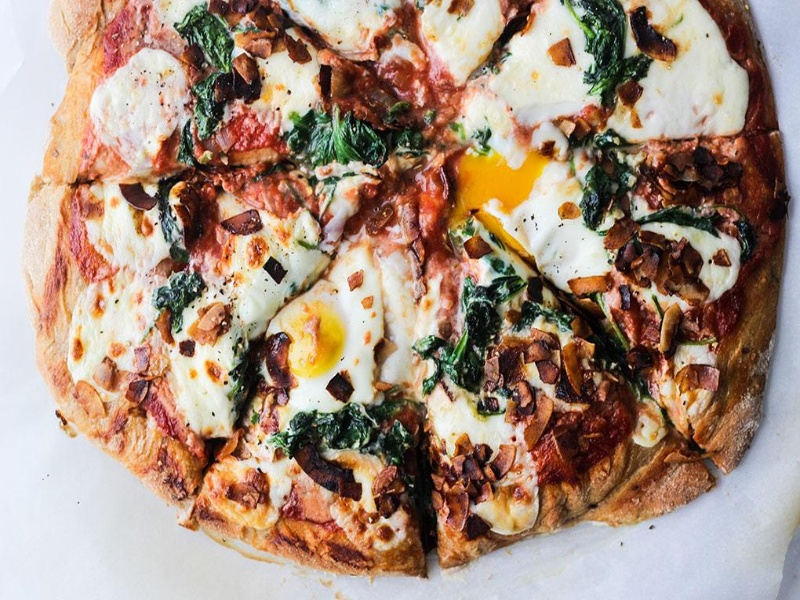oeuf: (450, 134, 571, 242), (277, 294, 364, 385)
